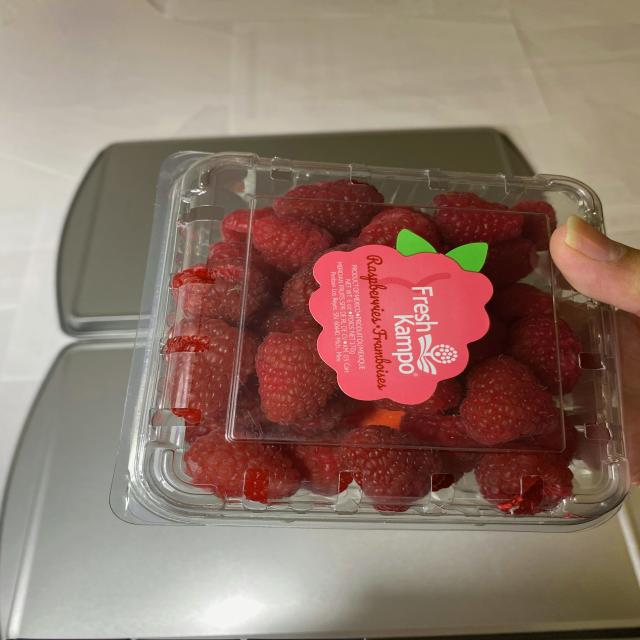raspberries: (161, 168, 583, 523)
